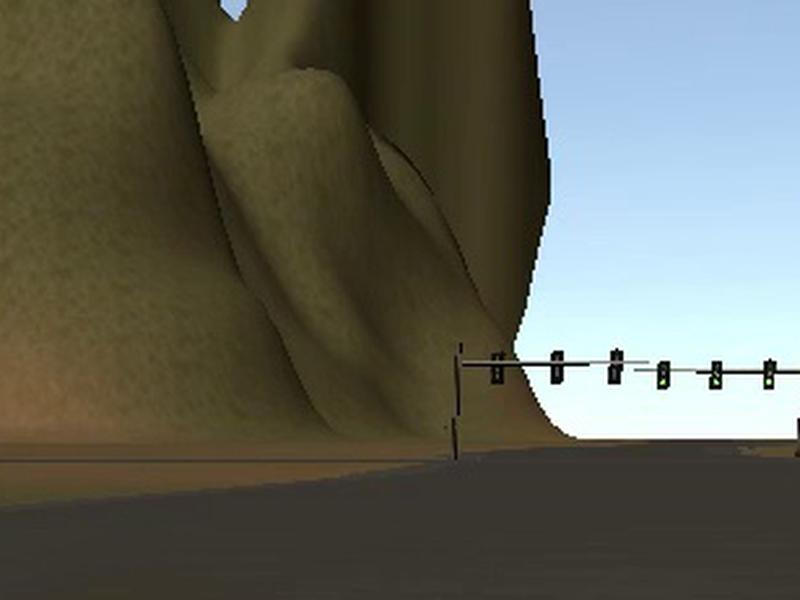Green: (656, 360, 670, 389), (708, 361, 722, 389), (764, 360, 776, 389)
